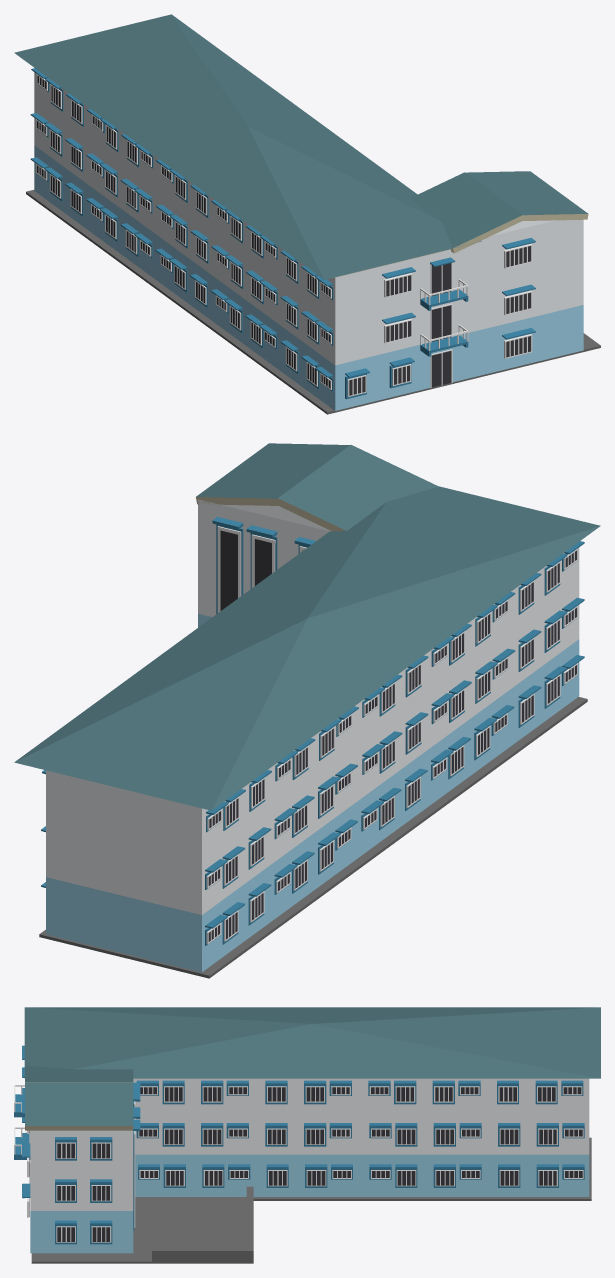
File: WalingWaling.glb
3 renders of one model, top to bottom at view 1: azimuth 30°, elevation 25°; view 2: azimuth 150°, elevation 25°; view 3: azimuth 270°, elevation 25°, orthographic. The views are drawn at different scales.
Visible parts, largest first — view 1: pyramid.002; view 2: pyramid.002; view 3: pyramid.002.
Part boxes in pixels (box(x1,y1,x2,y2)): pyramid.002: box(14, 14, 600, 414); pyramid.002: box(14, 443, 600, 978); pyramid.002: box(14, 1007, 600, 1263).
Bounding box in the file's own units: 16.08 × 8.75 × 31.38.
Materials: 11 (8 with a texture image).
